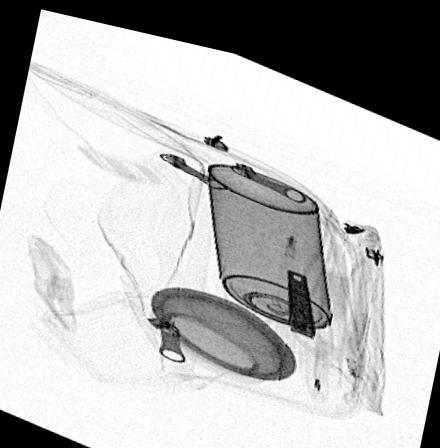Sprayer: (203, 149, 335, 346)
